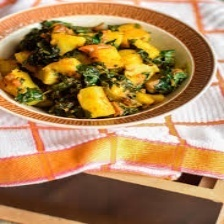sabzi: (0, 18, 188, 120)
